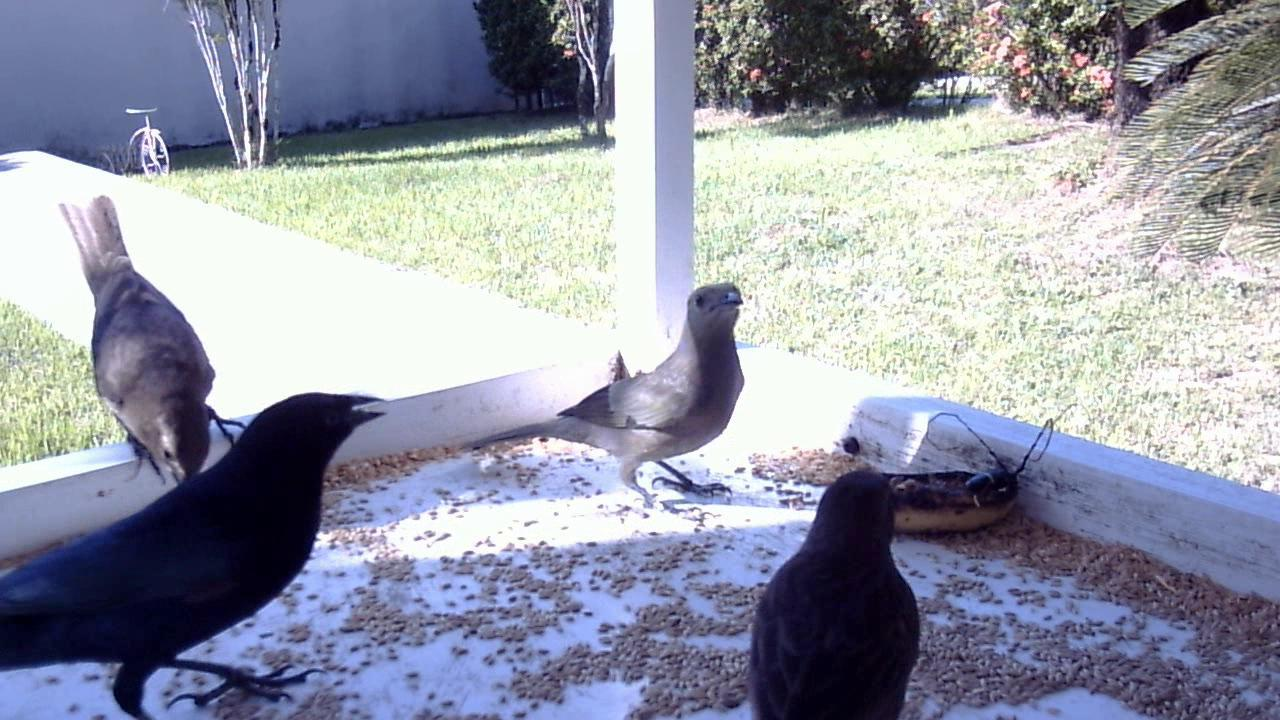chupim: (11, 374, 408, 712), (40, 179, 263, 501), (729, 458, 936, 713)
sanhaco_do_coqueiro: (479, 278, 758, 515)
